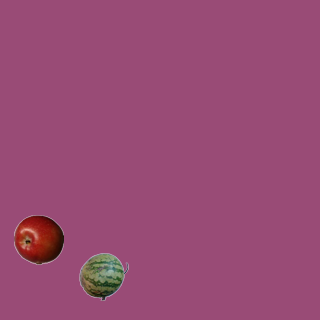Apple Braeburn: (13, 214, 63, 264)
Watermelon: (78, 251, 128, 301)
